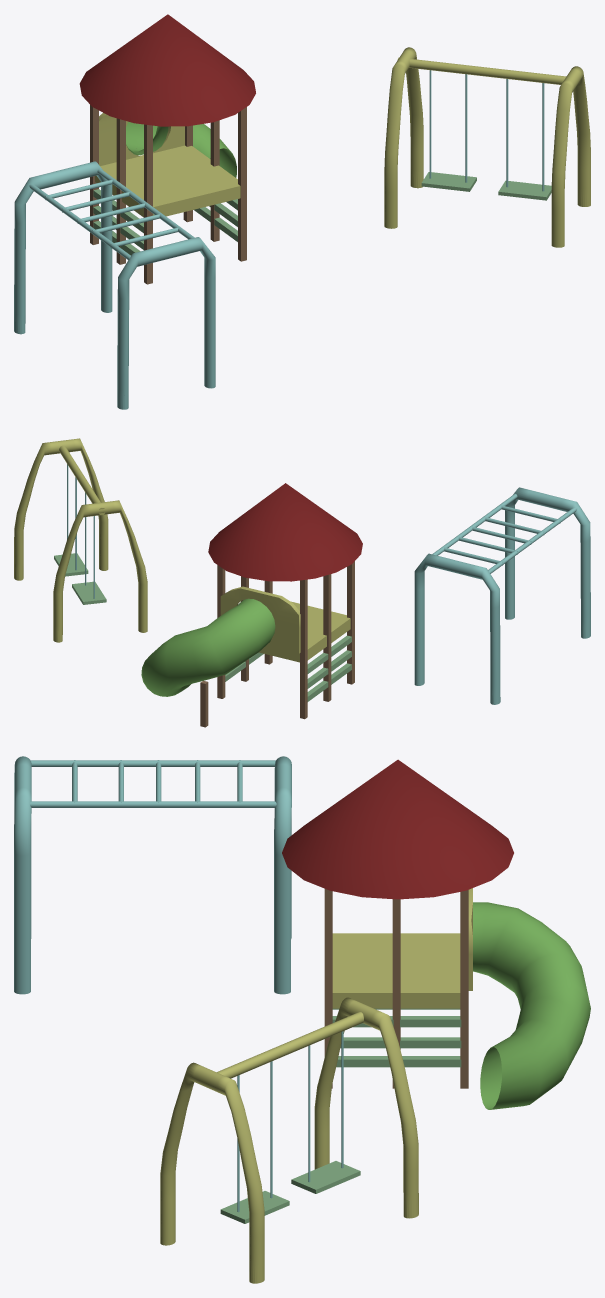
File: PlaygroundModel_FBX.fbx
3 renders of one model, top to bottom at view 1: azimuth 30°, elevation 25°; view 2: azimuth 150°, elevation 25°; view 3: azimuth 270°, elevation 25°, orthographic. The views are drawn at different scales.
Visible parts, largest first — view 1: playground; view 2: playground; view 3: playground.
Boxes of the visible parts, left/top/right/bottom form: playground: left=14, top=14, right=590, bottom=409; playground: left=14, top=438, right=590, bottom=727; playground: left=14, top=756, right=590, bottom=1283.
Bounding box in the file's own units: 8.42 × 3.39 × 5.92.
